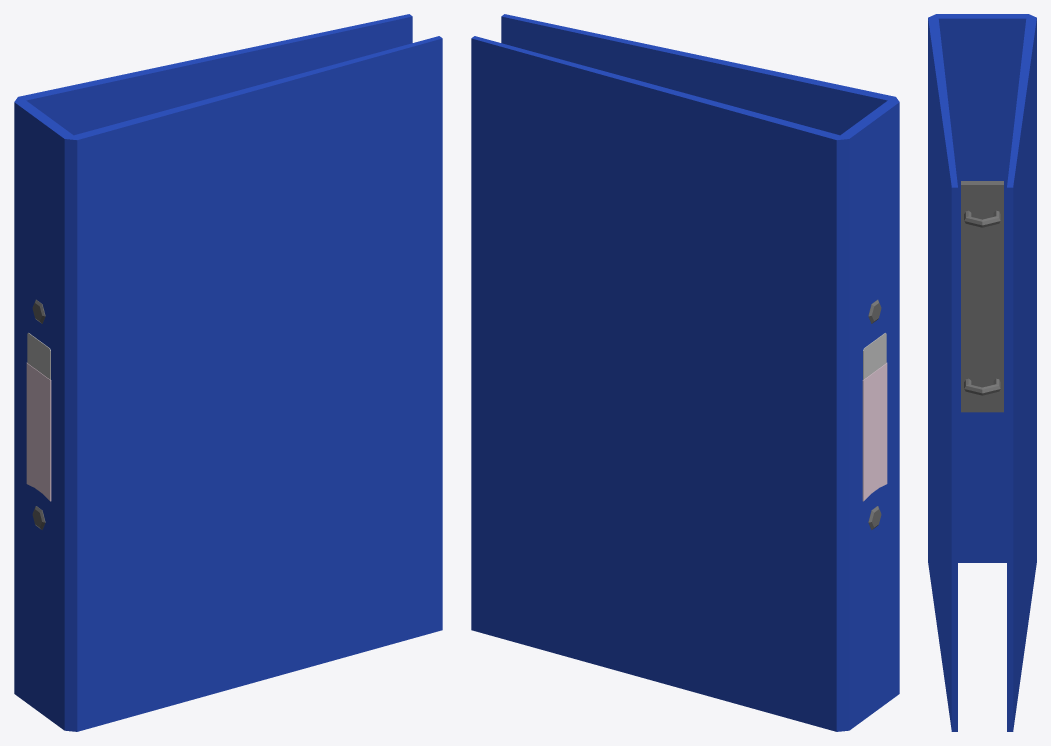
Rendered from binder.glb.
3 views of the same model, side by side, from view 1: azimuth 30°, elevation 25°; view 2: azimuth 150°, elevation 25°; view 3: azimuth 270°, elevation 25° (orthographic). The views are drawn at different scales.
Parts seen in each view (by area): view 1: binder; view 2: binder; view 3: binder.
Part boxes in pixels (left/top/right/bottom): binder: left=14, top=14, right=442, bottom=731; binder: left=471, top=14, right=899, bottom=731; binder: left=928, top=14, right=1036, bottom=731.
Size of the model in its own units: 0.2062 by 0.3 by 0.0544.
